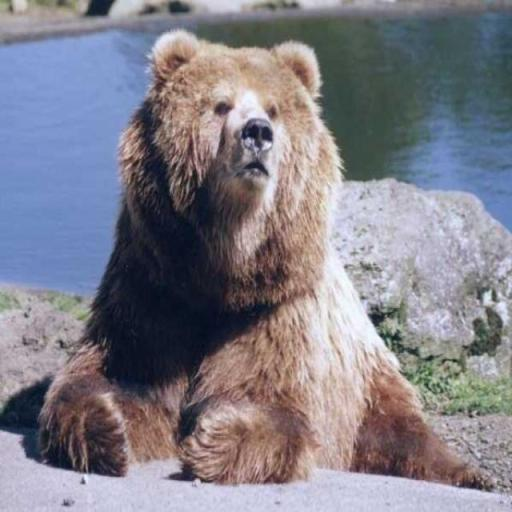Bear: (35, 27, 492, 491)
